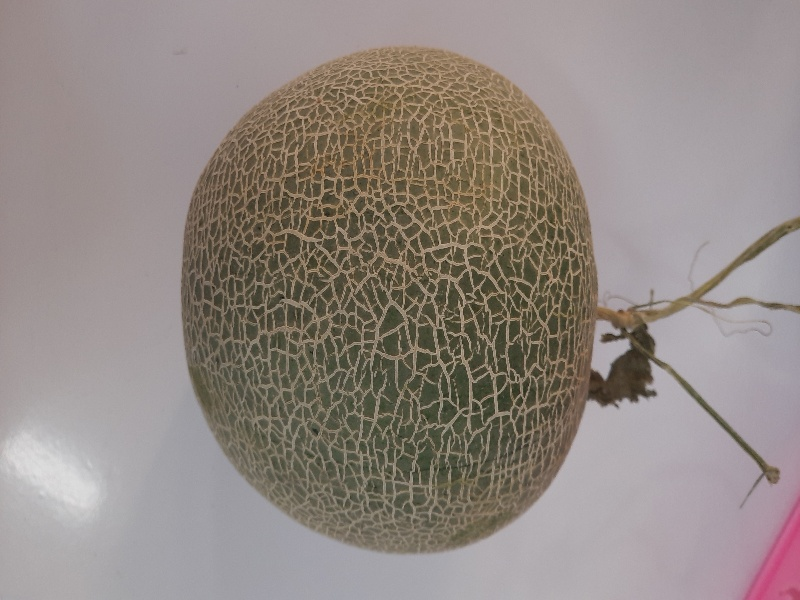fruit: (172, 35, 675, 565)
